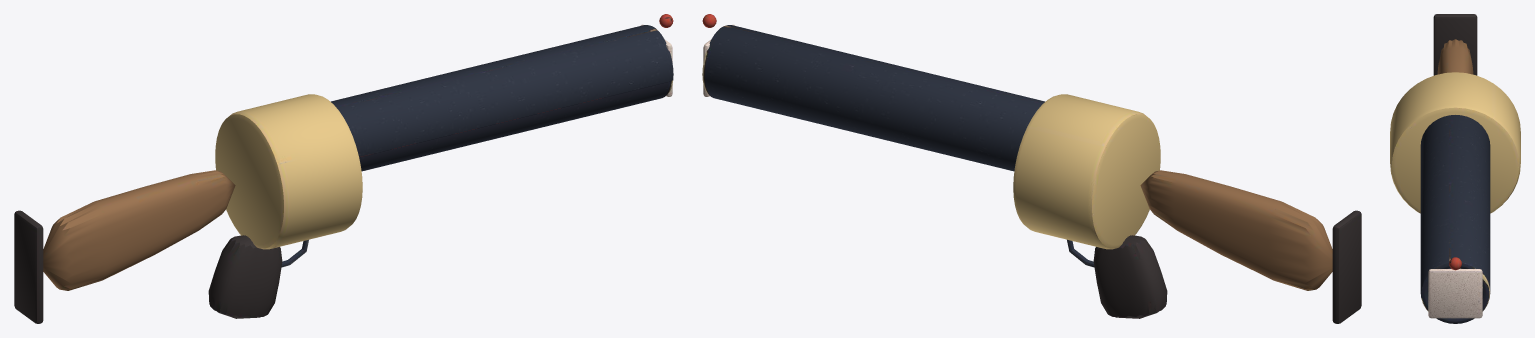
Rendered from limpetlauncher.glb.
3 renders of one model, left to right at view 1: azimuth 30°, elevation 25°; view 2: azimuth 150°, elevation 25°; view 3: azimuth 270°, elevation 25°, orthographic. The views are drawn at different scales.
Parts seen in each view (by area): view 1: tube, drum, stock, grip, butt_plate; view 2: tube, drum, stock, grip, butt_plate; view 3: tube, drum, pad, butt_plate, stock, fuse_light.
Boxes of the visible parts, x1,y1,x2,y2 form: tube: (331, 25, 673, 171); drum: (215, 94, 362, 249); stock: (43, 170, 235, 290); grip: (208, 235, 282, 318); butt_plate: (14, 210, 43, 323); tube: (702, 25, 1044, 171); drum: (1013, 94, 1160, 249); stock: (1140, 170, 1332, 290); grip: (1093, 235, 1167, 318); butt_plate: (1332, 210, 1361, 323); tube: (1420, 115, 1490, 323); drum: (1390, 72, 1520, 213); pad: (1428, 269, 1482, 318); butt_plate: (1433, 14, 1477, 75); stock: (1437, 39, 1473, 74); fuse_light: (1449, 257, 1461, 270).
Bounding box in the file's own units: 0.635 × 0.1871 × 0.12.
1 material, 1 textured.
